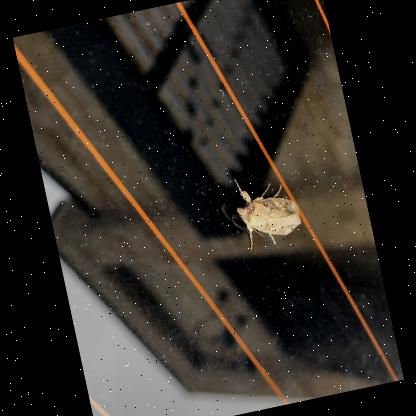Fall Armyworm Moth: (226, 164, 306, 254)
